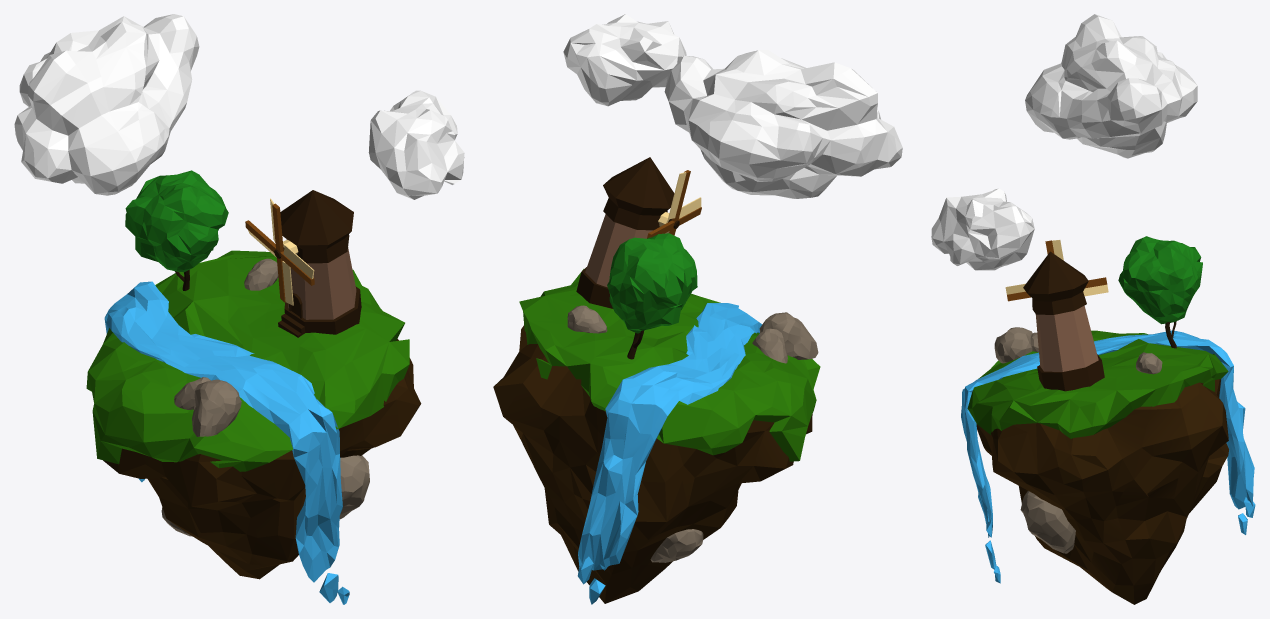
Rendered from Tiny3D.glb.
3 views of the same model, side by side, from view 1: azimuth 30°, elevation 25°; view 2: azimuth 150°, elevation 25°; view 3: azimuth 270°, elevation 25° (orthographic). The views are drawn at different scales.
Parts seen in each view (by area): view 1: Grass, Cloud, Water, Ground, Cloud1, Tree 1, WindmillBuilding1, WindmillBuilding, Rock4, Rock1, Windmill 1, WindmillBuilding2 (+2 smaller); view 2: Ground, Cloud, Grass, Water, Cloud1, Tree 1, WindmillBuilding1, WindmillBuilding, Rock4, Rock, Rock2, Rock3 (+3 smaller); view 3: Ground, Cloud, Grass, Water, Cloud1, Tree 1, WindmillBuilding, WindmillBuilding1, Rock1, WindmillBuilding2, Rock4, Windmill7 (+1 smaller).
Part boxes in pixels (box(x1,y1,x2,y2)): Grass: box(86, 250, 409, 471); Cloud: box(14, 14, 199, 195); Water: box(104, 281, 349, 604); Ground: box(103, 339, 421, 579); Cloud1: box(368, 90, 464, 199); Tree 1: box(125, 170, 228, 272); WindmillBuilding1: box(280, 190, 353, 263); WindmillBuilding: box(288, 247, 356, 319); Rock4: box(192, 379, 241, 436); Rock1: box(339, 455, 369, 519); Windmill 1: box(245, 203, 314, 302); WindmillBuilding2: box(284, 286, 361, 334); Ground: box(493, 325, 812, 603); Cloud: box(664, 49, 902, 198); Grass: box(519, 269, 820, 461); Water: box(577, 303, 761, 604); Cloud1: box(563, 14, 686, 106); Tree 1: box(607, 233, 697, 333); WindmillBuilding1: box(603, 157, 674, 230); WindmillBuilding: box(585, 214, 652, 287); Rock4: box(759, 312, 818, 359); Rock: box(650, 529, 703, 562); Rock2: box(567, 305, 607, 333); Rock3: box(752, 328, 787, 363); Ground: box(976, 379, 1228, 604); Cloud: box(1025, 14, 1197, 158); Grass: box(967, 330, 1228, 438); Water: box(961, 330, 1255, 583); Cloud1: box(931, 188, 1034, 270); Tree 1: box(1118, 236, 1202, 324); WindmillBuilding: box(1035, 305, 1098, 371); WindmillBuilding1: box(1023, 251, 1088, 314); Rock1: box(1020, 491, 1075, 553); WindmillBuilding2: box(1037, 354, 1104, 391); Rock4: box(994, 327, 1032, 363); Windmill7: box(1005, 240, 1108, 296).
Size of the model in its own units: 1.84 by 2.72 by 1.6.
